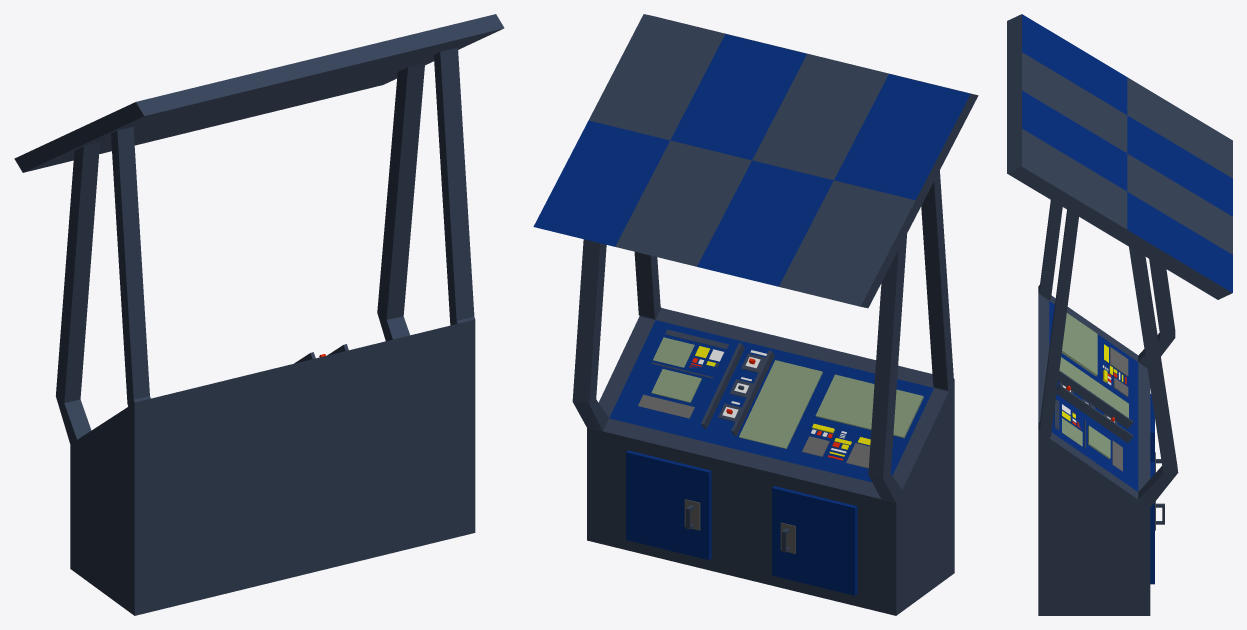
Rendered from Information Desk A3.fbx.
The picture shows the model from 3 angles, left to right: view 1: azimuth 30°, elevation 25°; view 2: azimuth 150°, elevation 25°; view 3: azimuth 270°, elevation 25°; orthographic projection. The views are drawn at different scales.
Visible parts, largest first — view 1: Cube; view 2: Cube; view 3: Cube.
Part boxes in pixels (bbox=[...]): Cube: bbox=[14, 14, 504, 615]; Cube: bbox=[533, 14, 978, 615]; Cube: bbox=[1007, 14, 1232, 615].
Size of the model in its own units: 111 by 153 by 69.14.
